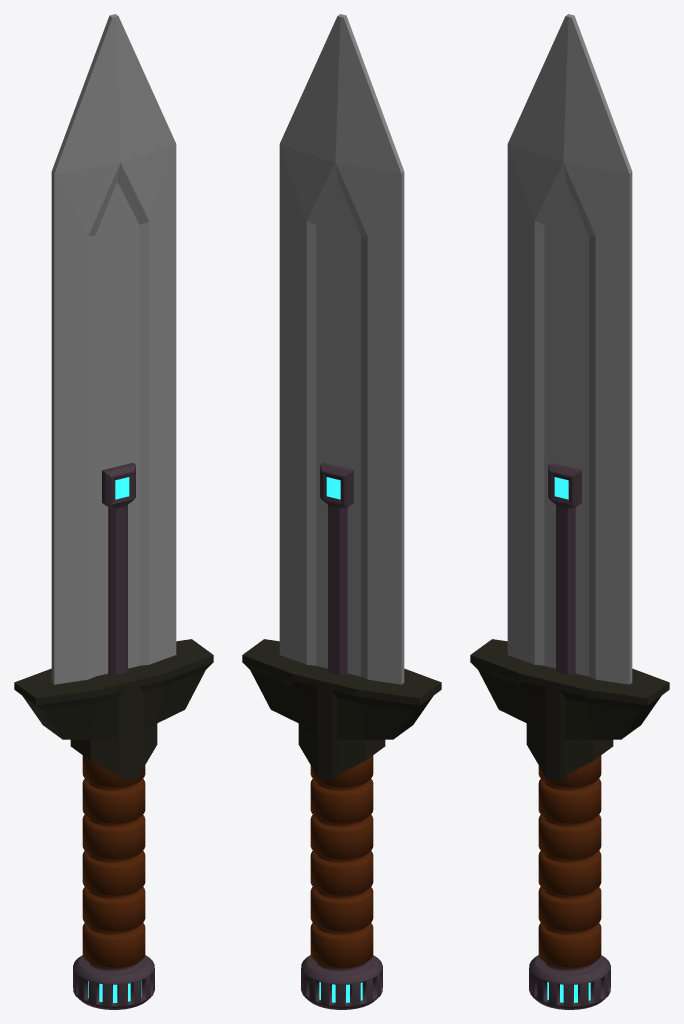
File: Sword.fbx
3 views of the same model, side by side, from view 1: azimuth 30°, elevation 25°; view 2: azimuth 150°, elevation 25°; view 3: azimuth 330°, elevation 25° (orthographic).
Visible parts, largest first — view 1: sword; view 2: sword; view 3: sword.
Boxes of the visible parts, bbox=[...] form: sword: bbox=[14, 14, 213, 1009]; sword: bbox=[242, 14, 441, 1009]; sword: bbox=[470, 14, 669, 1009].
Bounding box in the file's own units: 292 × 1541 × 117.
